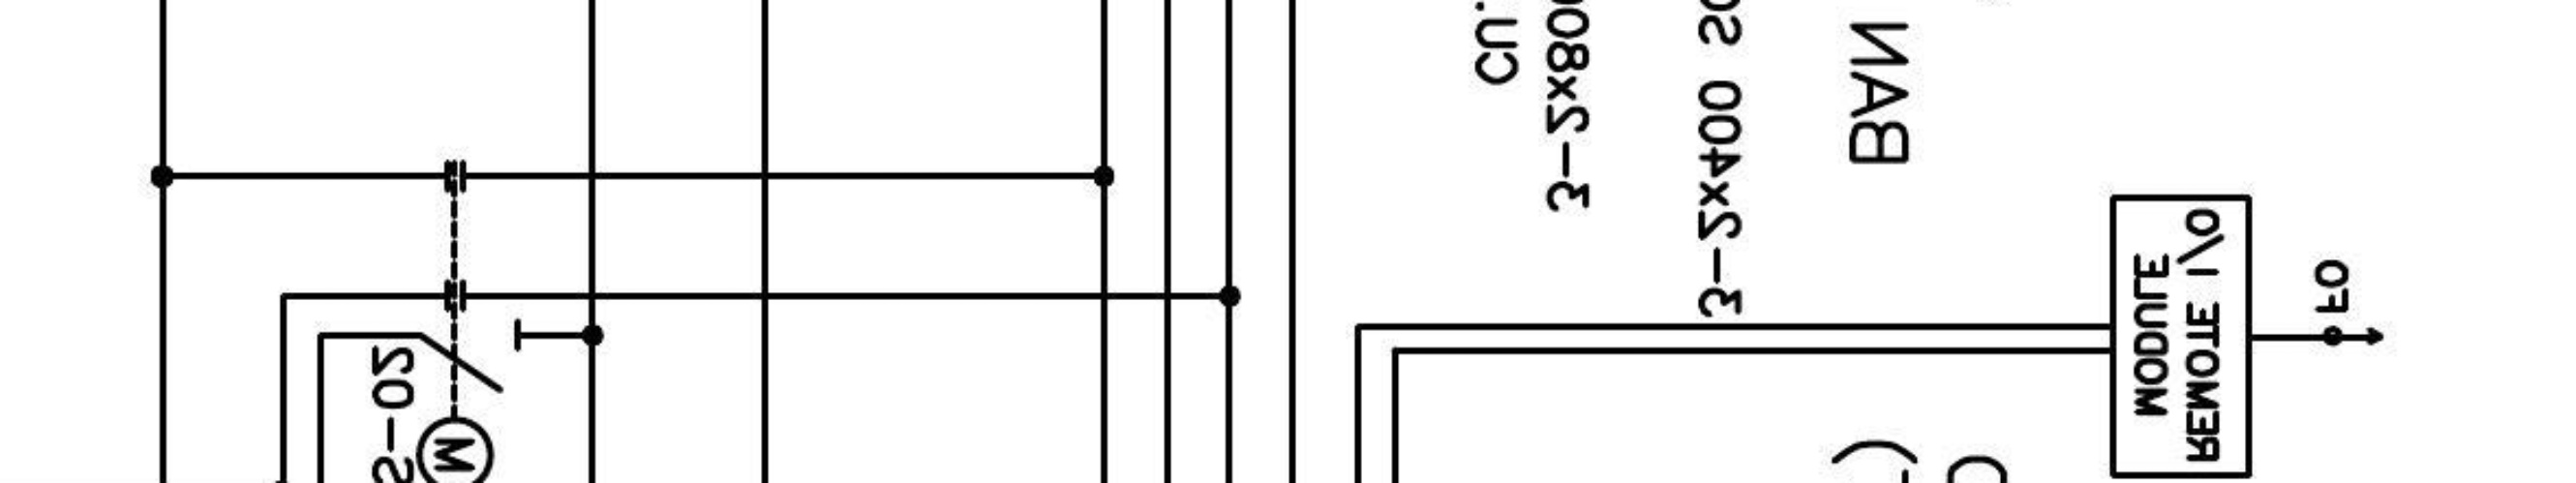remote_io_module: (2108, 194, 2252, 480)
